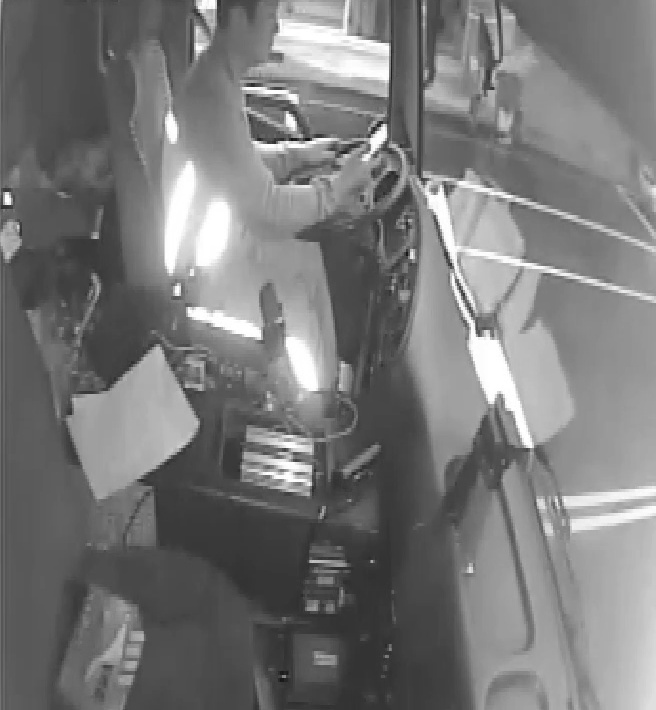cellphone: (342, 121, 391, 170)
